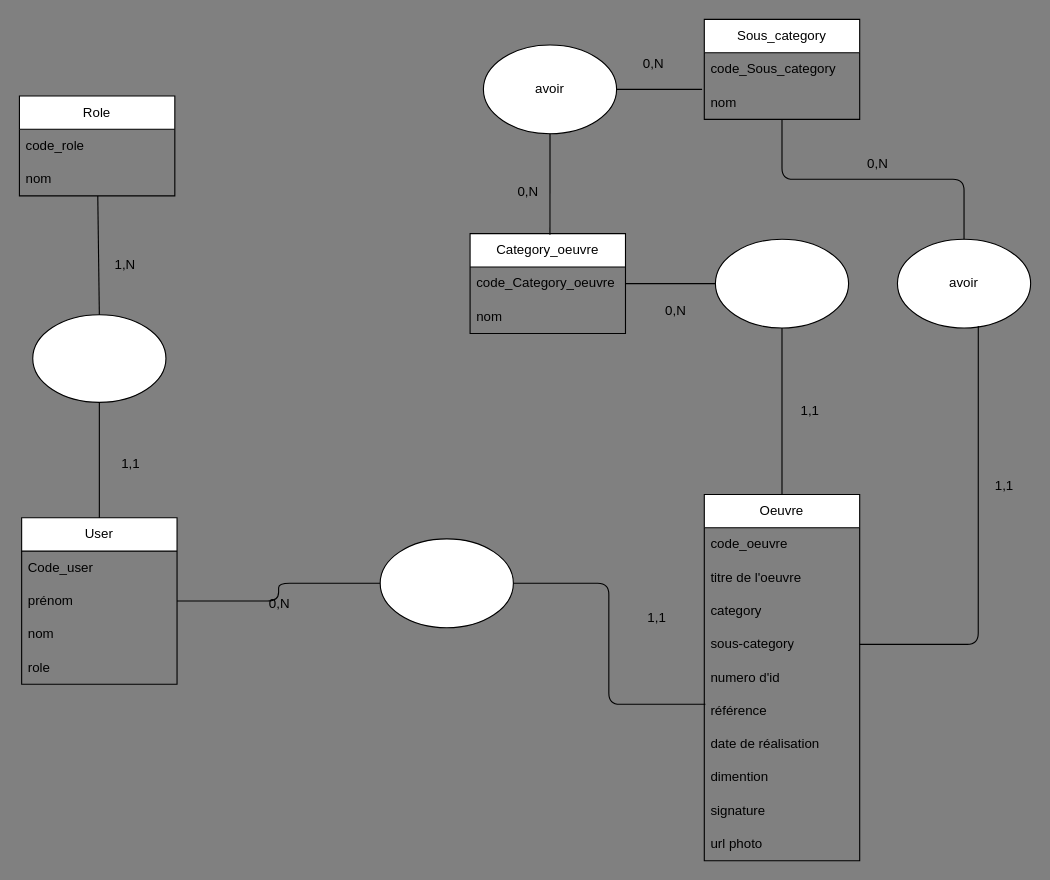
This 1050x880 diagram has some shape labels left out. Here are the shapes that lost their labels. From the top down, the centre of each, then its label:
At point 781,283: "appartenir".
At point 99,358: "être".
At point 446,583: "réaliser".
